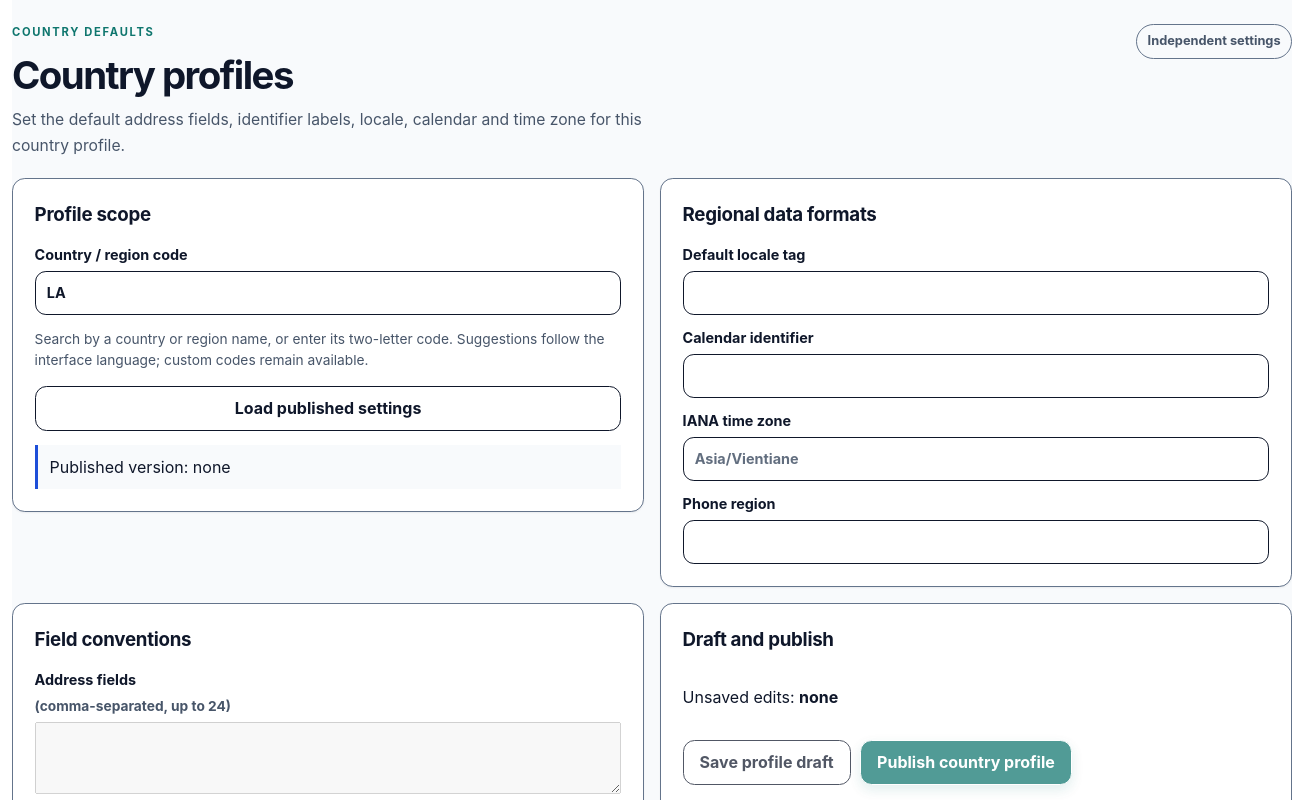
Test: published UI namespace integration › keeps profile editing disabled after a failed load until retry succeeds
The image size is (1292, 800).
Expected: the field labelled "Default locale tag" is disabled, [683,271,1269,315]
Expected: the button "Save profile draft" is disabled, [683,740,850,785]
Click the button "Load published settings": point(328, 408) [35,386,621,431]
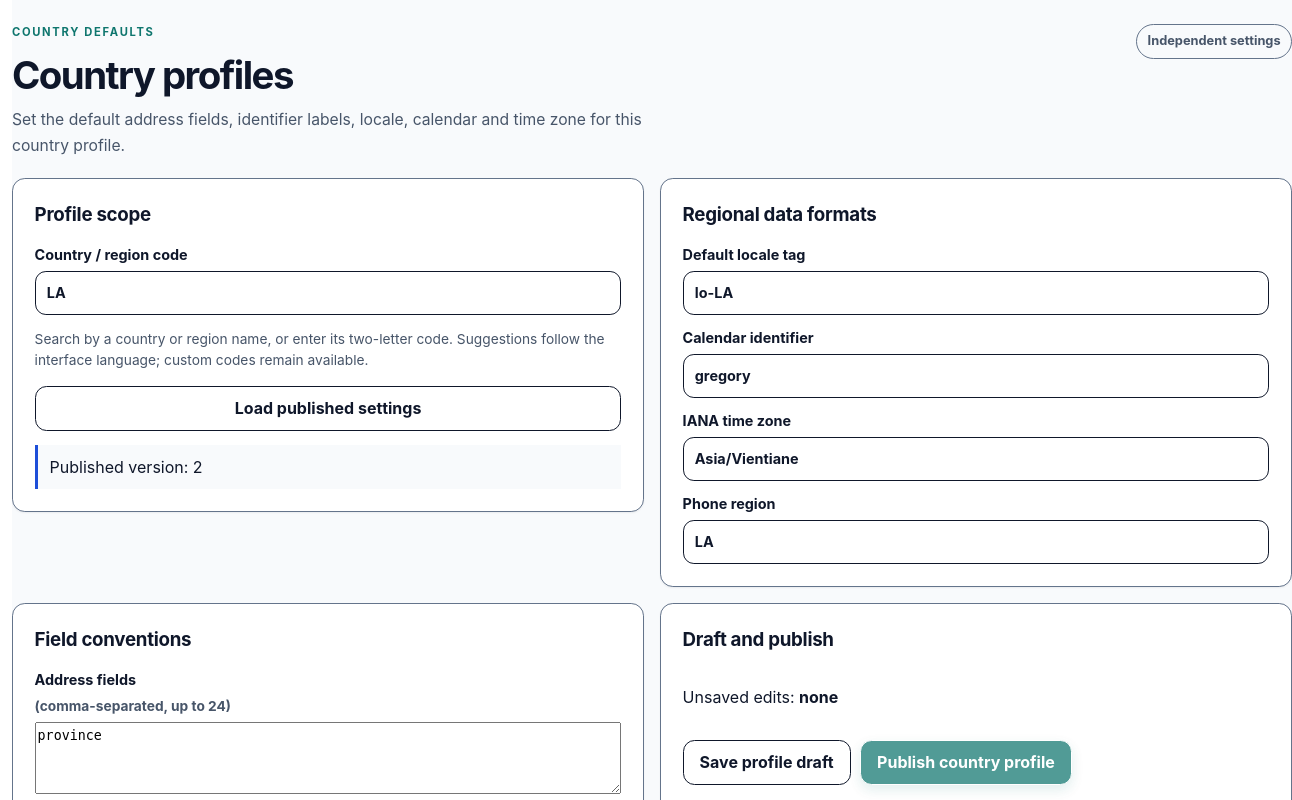
Expected: the field labelled "Default locale tag" is enabled, [683,271,1269,315]
Expected: the button "Save profile draft" is enabled, [683,740,850,785]
